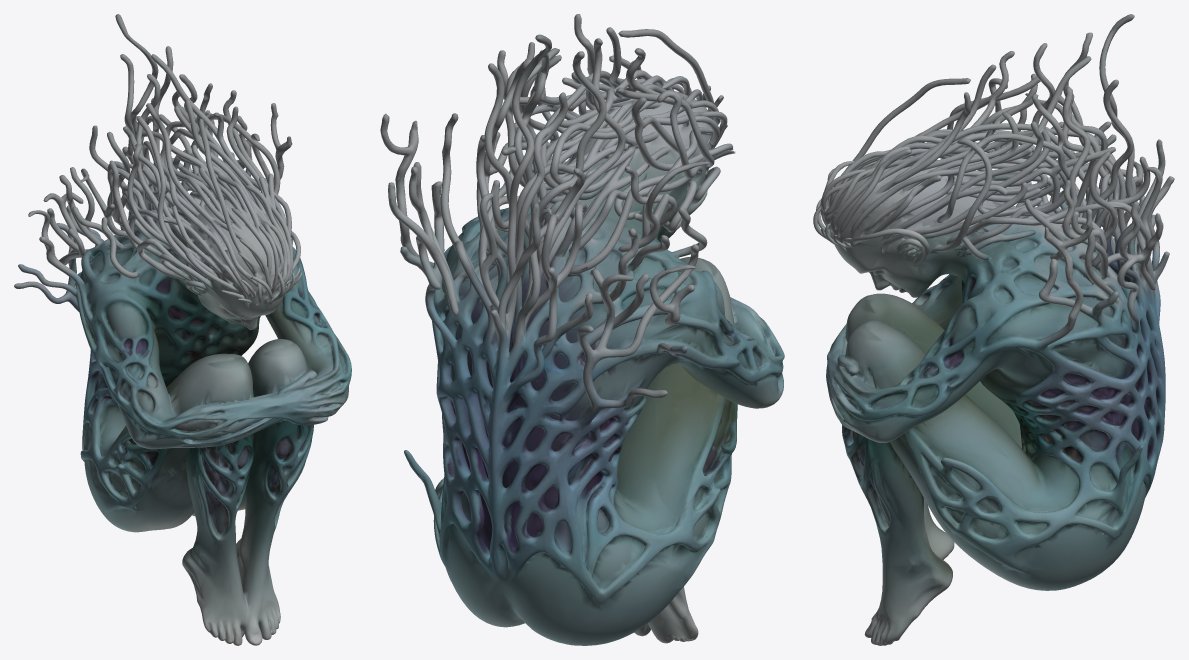
The model's file is annie-body-desktop.glb.
3 views of the same model, side by side, from view 1: azimuth 30°, elevation 25°; view 2: azimuth 150°, elevation 25°; view 3: azimuth 270°, elevation 25° (orthographic). The views are drawn at different scales.
Parts seen in each view (by area): view 1: node_0; view 2: node_0; view 3: node_0.
Part boxes in pixels (x1,y1,x2,y2): node_0: (14,14,351,645); node_0: (380,14,784,645); node_0: (813,14,1174,645).
Bounding box in the file's own units: 0.5217 × 1.11 × 0.5917.
1 material, 1 textured.
